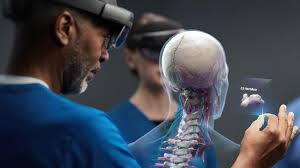hololens: (62, 2, 135, 57), (127, 24, 191, 52)
